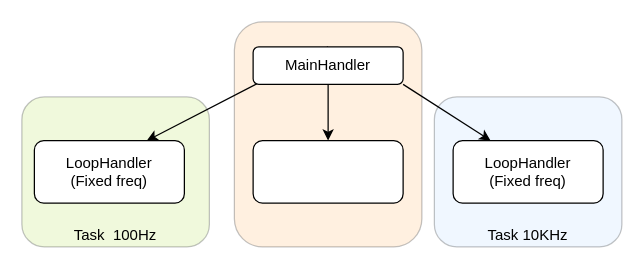
The diagram is 644 pixels wide and 269 high, and some of its shapes have lost their labels. The box of each missing label's shape, as (x1, y1, x2, y2) in pixels:
Idle Task: (233, 21, 422, 247)
LoopHandler (Variable freq): (252, 139, 403, 203)
